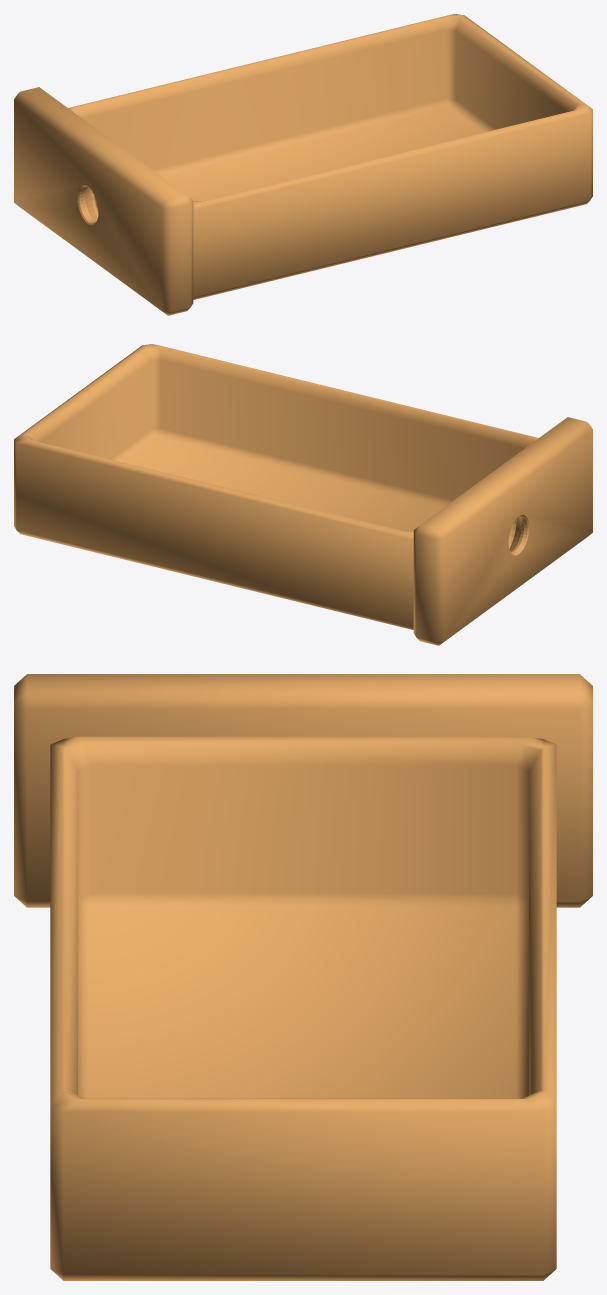
Rendered from toronto-desk-drawer-top.fbx.
The picture shows the model from 3 angles, top to bottom: view 1: azimuth 30°, elevation 25°; view 2: azimuth 150°, elevation 25°; view 3: azimuth 270°, elevation 25°; orthographic projection. The views are drawn at different scales.
Parts seen in each view (by area): view 1: toronto-desk-drawer-top.007; view 2: toronto-desk-drawer-top.007; view 3: toronto-desk-drawer-top.007.
Boxes of the visible parts, x1,y1,x2,y2 form: toronto-desk-drawer-top.007: (14,14,592,315); toronto-desk-drawer-top.007: (14,344,592,645); toronto-desk-drawer-top.007: (14,674,592,1280).
Bounding box in the file's own units: 434 × 109 × 264.
